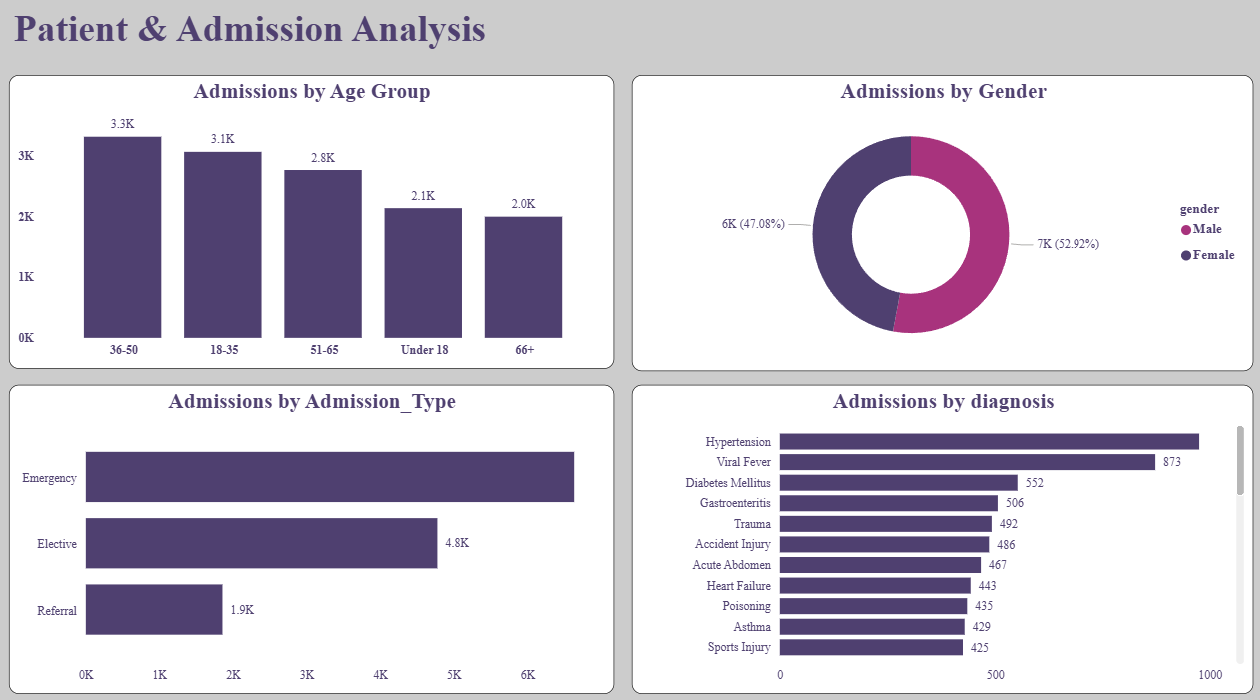

What the dashboard file says about the page in this screenshot:
{"tool":"powerbi","page":{"name":"Patient & Admission Analysis","canvas":[1280,720],"ordinal":1},"visuals":[{"type":"donutChart","title":"Admissions by Gender","fields":{"Category":["hospital_admissions_cleaned.gender"],"Y":["hospital_admissions_cleaned.Total Admissions"]},"box":[639.5,88.3,622.2,295.7],"z":0},{"type":"clusteredBarChart","title":"Admissions by Admission_Type","fields":{"Y":["hospital_admissions_cleaned.Total Admissions"],"Category":["hospital_admissions_cleaned.admission_type"]},"box":[17.3,397.5,604.9,309.2],"z":1000},{"type":"clusteredBarChart","title":"Admissions by diagnosis","fields":{"Category":["hospital_admissions_cleaned.diagnosis"],"Y":["hospital_admissions_cleaned.Total Admissions"]},"box":[639.5,397.5,622.2,309.2],"z":2000},{"type":"clusteredColumnChart","title":"Admissions by Age Group","fields":{"Y":["hospital_admissions_cleaned.Total Admissions"],"Category":["hospital_admissions_cleaned.Age Group"]},"box":[17.3,88.3,604.9,293.8],"z":3000},{"type":"textbox","box":[17.3,15.4,507,59.5],"z":3001}]}

Visuals, with their boxes in screenshot pixels (x1, y1, x2, y2), scaled from the page's 1280x720 canvas onto the 1260x700 screenshot:
"Admissions by Gender" donutChart: [630,86,1242,373]
"Admissions by Admission_Type" clusteredBarChart: [17,386,612,687]
"Admissions by diagnosis" clusteredBarChart: [630,386,1242,687]
"Admissions by Age Group" clusteredColumnChart: [17,86,612,371]
textbox: [17,15,516,73]
